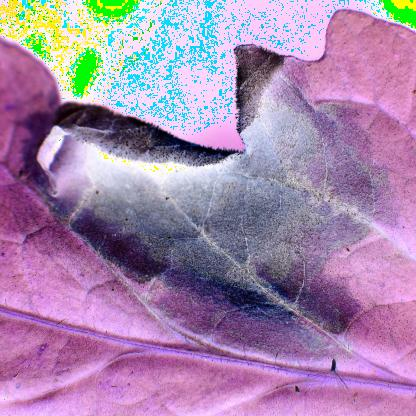potato leaf late blight: (1, 4, 416, 403)
